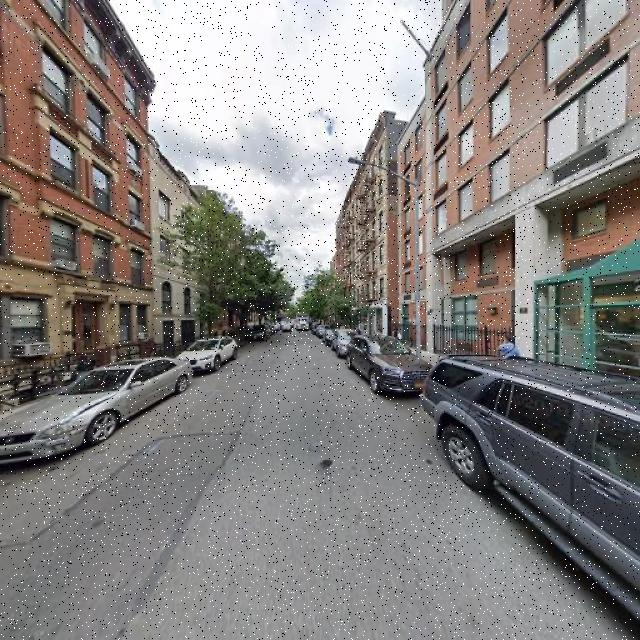Building: (402, 1, 640, 395), (1, 1, 147, 379)
